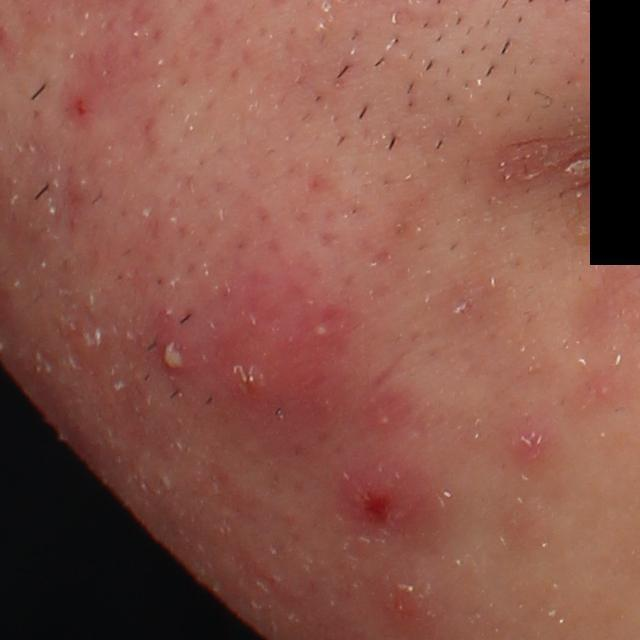papule: (315, 462, 445, 545), (377, 573, 428, 620), (58, 88, 106, 135), (508, 425, 555, 462)
pustule: (155, 334, 198, 381)
